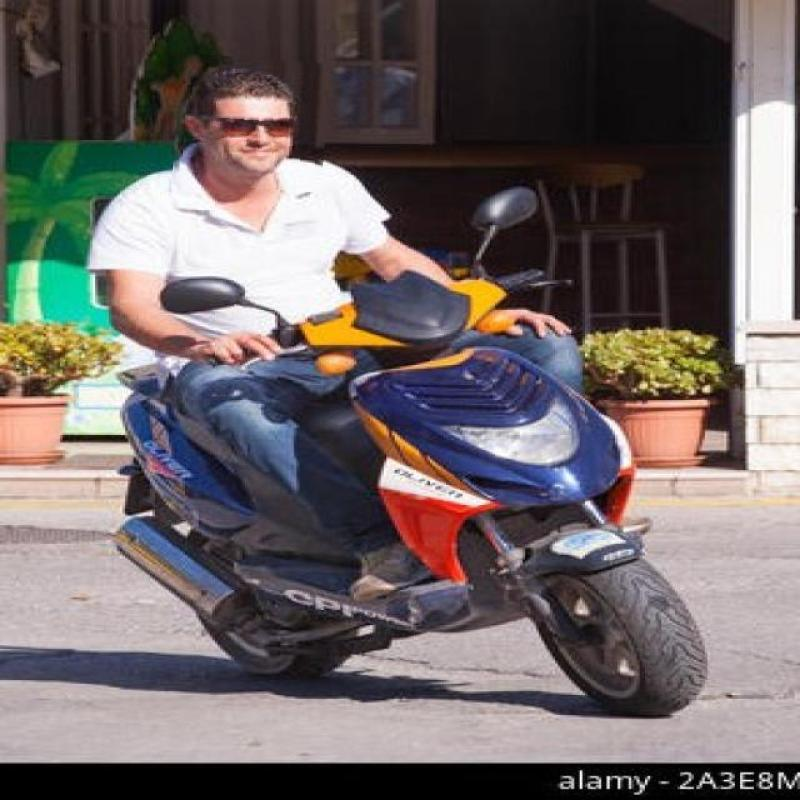nohelmet: (174, 55, 328, 190)
